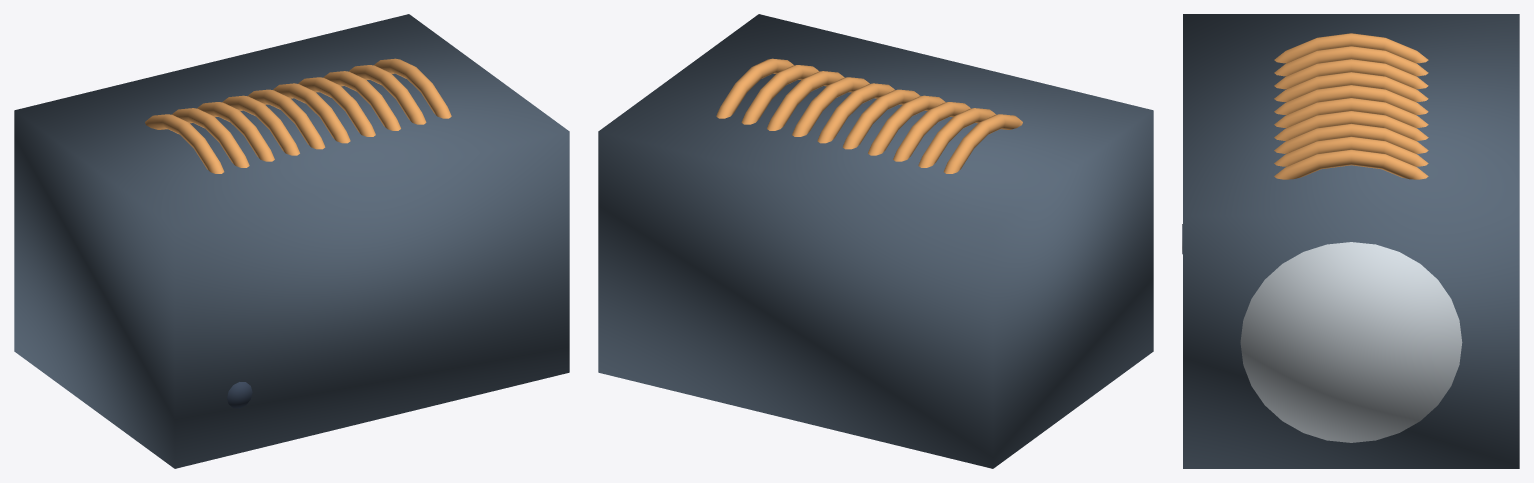
Rendered from 43_L87_RingAngularMomentumCompensationUnit.glb.
3 views of the same model, side by side, from view 1: azimuth 30°, elevation 25°; view 2: azimuth 150°, elevation 25°; view 3: azimuth 270°, elevation 25° (orthographic). The views are drawn at different scales.
Parts seen in each view (by area): view 1: L87_RingAngularMomentumCompen_Part_0000, L87_RingAngularMomentumCompen_Part_0001; view 2: L87_RingAngularMomentumCompen_Part_0000, L87_RingAngularMomentumCompen_Part_0001; view 3: L87_RingAngularMomentumCompen_Part_0000, L87_RingAngularMomentumCompen_Part_0002, L87_RingAngularMomentumCompen_Part_0001.
Part boxes in pixels (bbox=[...]): L87_RingAngularMomentumCompen_Part_0000: bbox=[14, 14, 569, 468]; L87_RingAngularMomentumCompen_Part_0001: bbox=[145, 58, 451, 173]; L87_RingAngularMomentumCompen_Part_0000: bbox=[598, 14, 1153, 468]; L87_RingAngularMomentumCompen_Part_0001: bbox=[716, 58, 1022, 173]; L87_RingAngularMomentumCompen_Part_0000: bbox=[1183, 14, 1519, 468]; L87_RingAngularMomentumCompen_Part_0002: bbox=[1240, 242, 1462, 442]; L87_RingAngularMomentumCompen_Part_0001: bbox=[1274, 33, 1428, 179].
Bounding box in the file's own units: 1.25 × 0.806 × 0.882.
